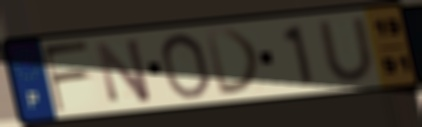1: (281, 22, 316, 87)
D: (203, 26, 264, 98)
F: (40, 39, 92, 115)
N: (93, 36, 155, 105)
O: (158, 31, 213, 101)
U: (314, 14, 380, 84)
